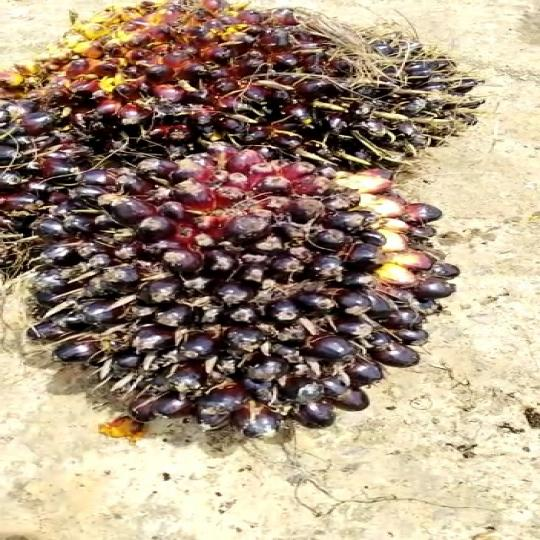mentah: (0, 0, 485, 453)
